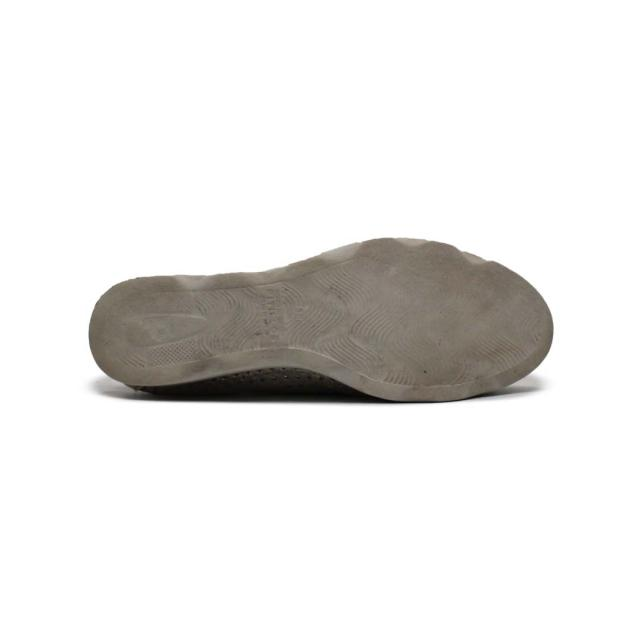outersole: (89, 236, 555, 403)
